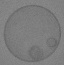small: (29, 46, 43, 58), (46, 39, 57, 47)
